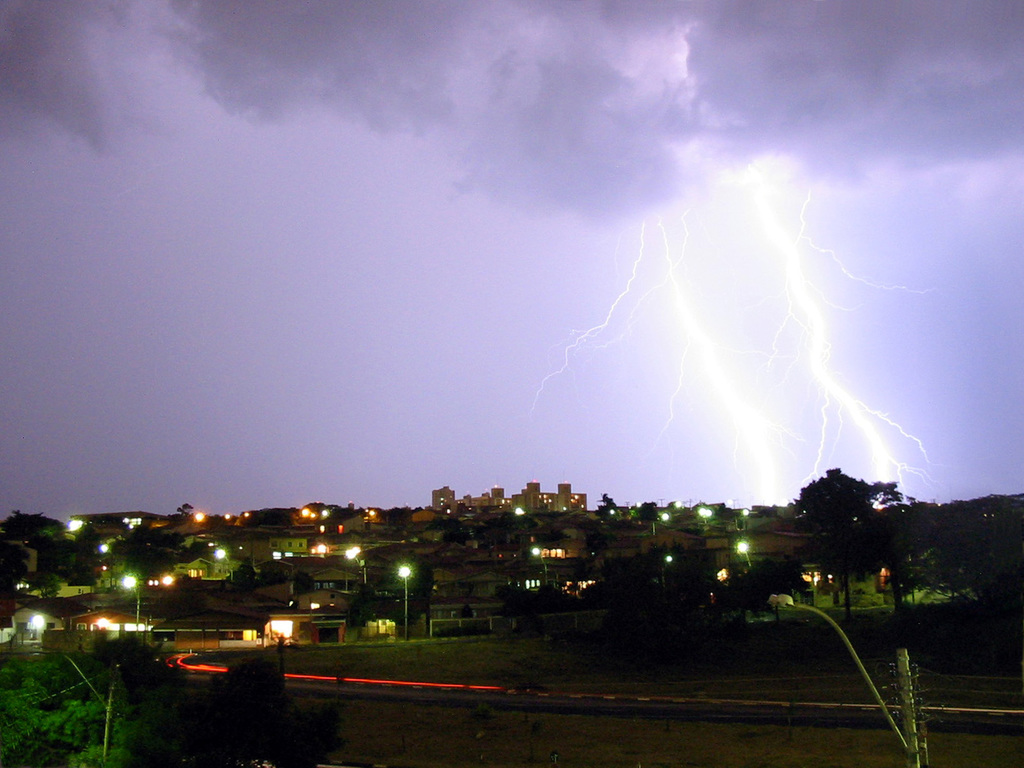Tree: (136, 653, 339, 767), (791, 460, 910, 591), (0, 657, 139, 767), (579, 542, 741, 624), (737, 554, 810, 605), (474, 514, 577, 550), (887, 492, 1023, 516), (93, 631, 159, 677), (0, 509, 63, 540), (441, 519, 469, 543)
